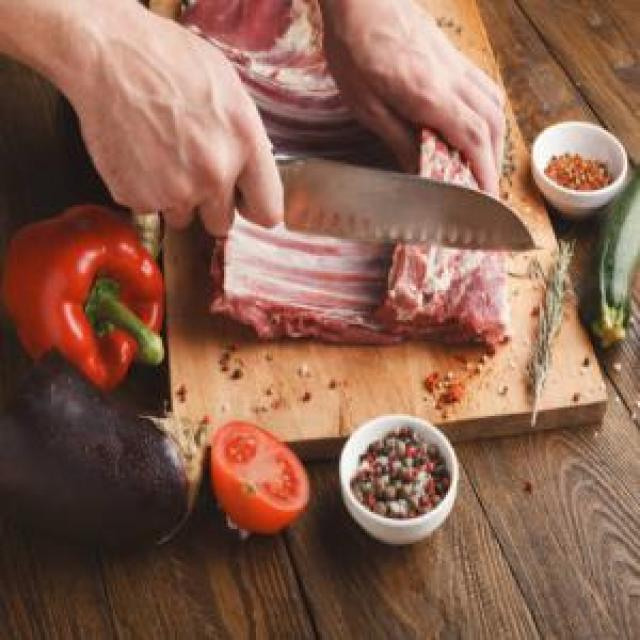knife: (151, 130, 540, 265)
